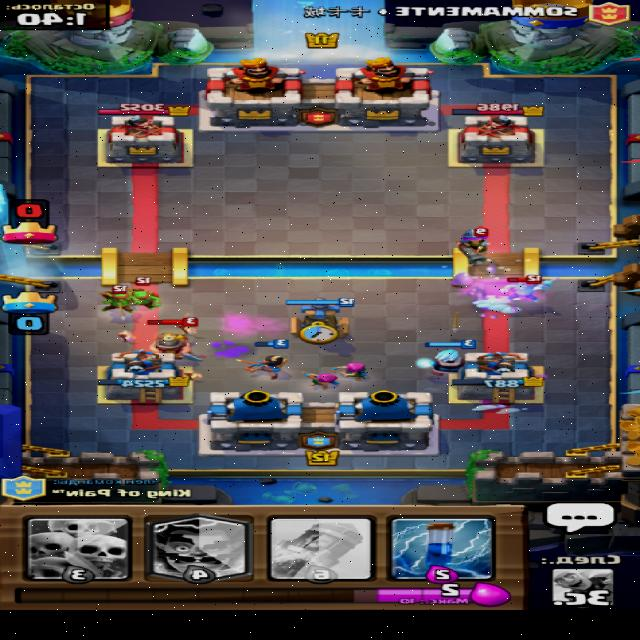Enemy-Musketeer: (454, 224, 494, 264)
Enemy-SkeletonBarrel: (98, 284, 140, 314)
Enemy-SpearGoblin: (498, 273, 560, 303), (130, 276, 163, 309)
Player-Archer: (300, 370, 343, 389), (332, 361, 371, 381)
Player-IceSpirit: (412, 338, 478, 378)
Player-Princess: (235, 338, 292, 380)
Player-Tesla: (285, 295, 360, 340)
